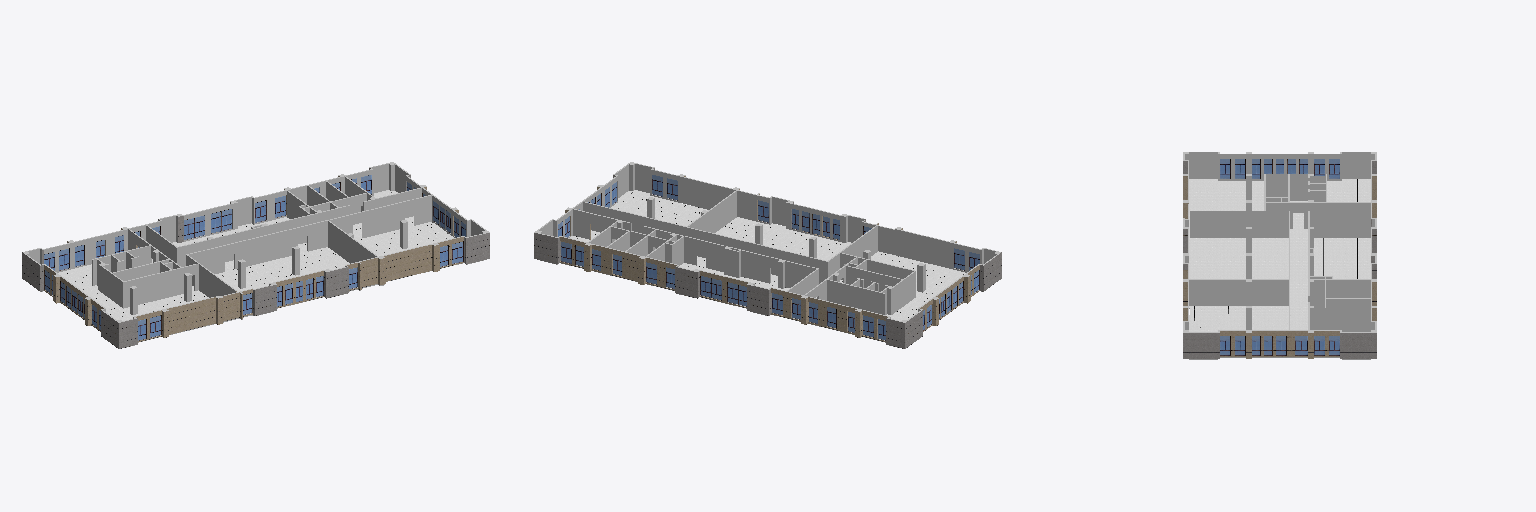
3 renders of one model, left to right at view 1: azimuth 30°, elevation 25°; view 2: azimuth 150°, elevation 25°; view 3: azimuth 270°, elevation 25°, orthographic.
Visible parts, largest first — view 1: LC_8F_qiang, LC_8F_diban_G, C_8F_chuang; view 2: LC_8F_qiang, LC_8F_diban_G, C_8F_chuang; view 3: LC_8F_qiang, LC_8F_diban_G, C_8F_chuang.
Boxes of the visible parts, x1,y1,x2,y2 form: LC_8F_qiang: [22, 162, 489, 348]; LC_8F_diban_G: [42, 190, 483, 347]; C_8F_chuang: [44, 175, 465, 340]; LC_8F_qiang: [534, 162, 1001, 348]; LC_8F_diban_G: [540, 190, 981, 347]; C_8F_chuang: [558, 175, 979, 340]; LC_8F_qiang: [1183, 152, 1376, 358]; LC_8F_diban_G: [1189, 179, 1370, 359]; C_8F_chuang: [1220, 159, 1339, 355].
Size of the model in its own units: 57600 by 4050 by 26000.
5 materials, 4 textured.